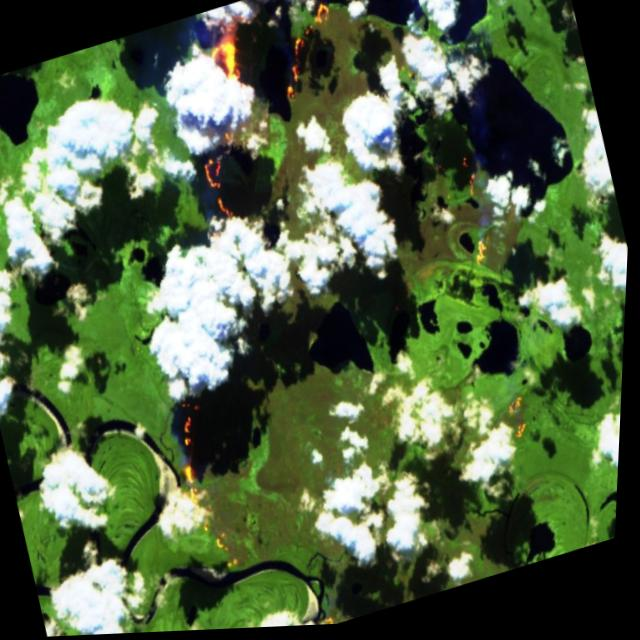fire: (154, 0, 380, 240), (140, 375, 264, 602), (434, 138, 518, 284), (486, 381, 547, 465)
